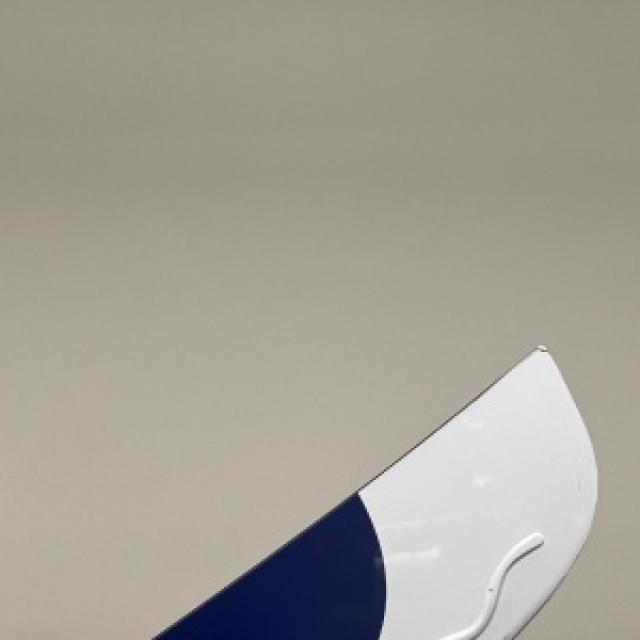healthy: (154, 346, 593, 638)
